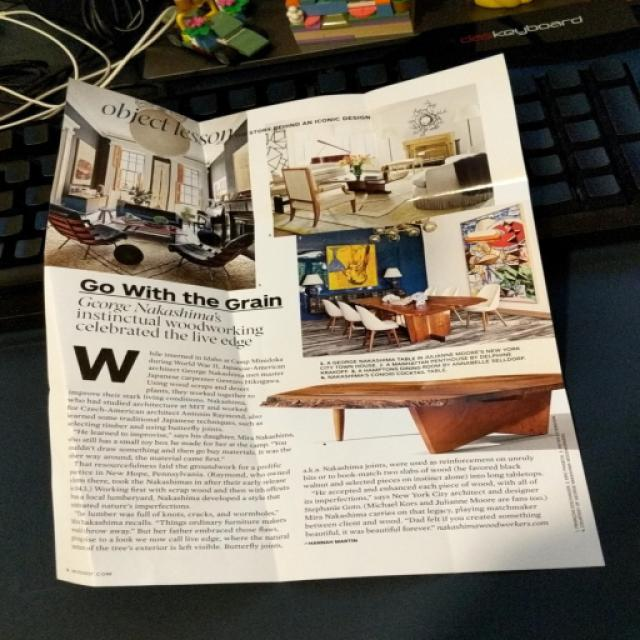document: (46, 55, 601, 585)
